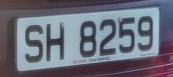2: (98, 13, 119, 62)
5: (117, 11, 138, 59)
8: (77, 14, 99, 66)
9: (136, 11, 157, 57)
H: (44, 18, 68, 69)
S: (22, 20, 47, 66)
